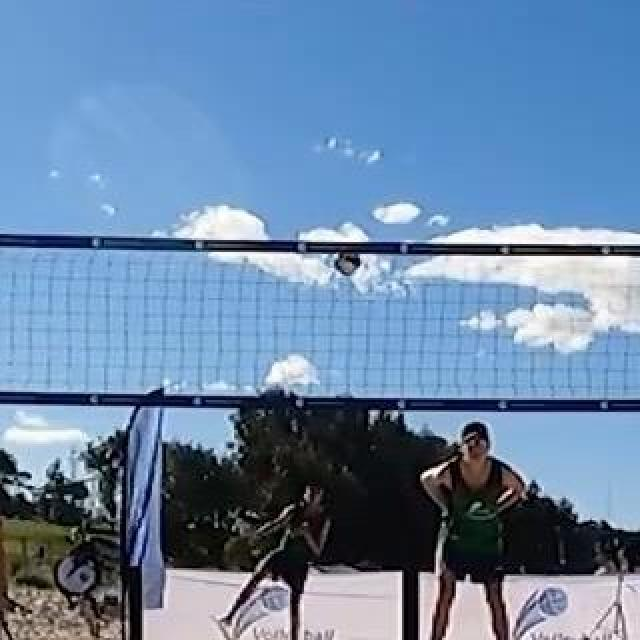volleyball: (333, 249, 363, 275)
